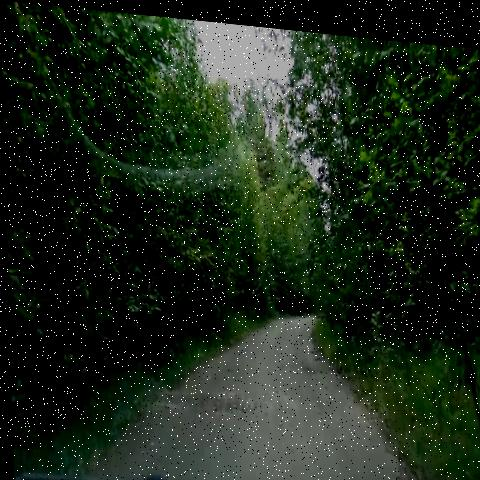pothole: (155, 360, 272, 433), (296, 349, 334, 386)
